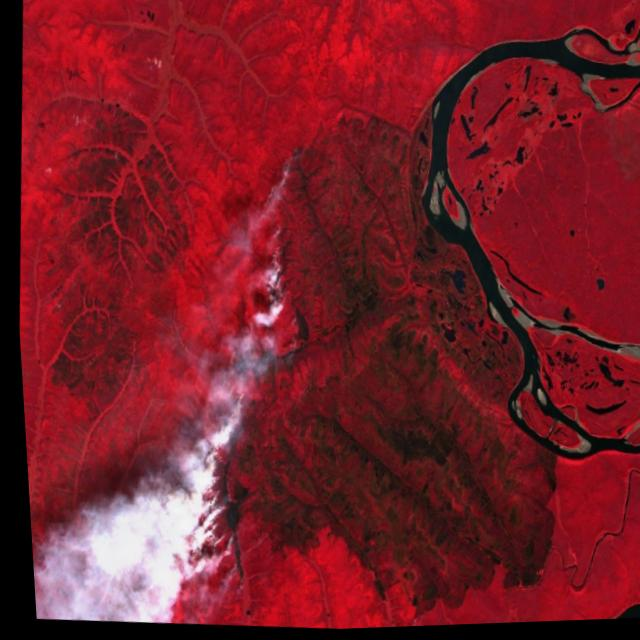fire: (173, 341, 288, 595), (243, 232, 296, 335)
